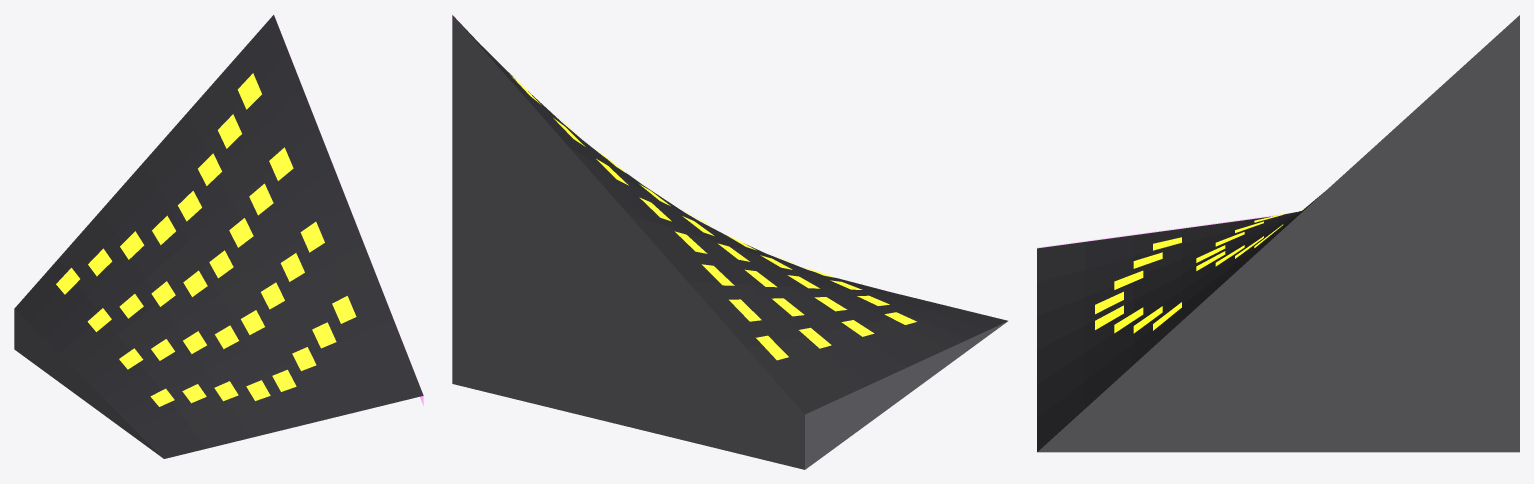
The model's file is barrel_ramp.glb.
3 views of the same model, side by side, from view 1: azimuth 30°, elevation 25°; view 2: azimuth 150°, elevation 25°; view 3: azimuth 270°, elevation 25° (orthographic). The views are drawn at different scales.
Parts seen in each view (by area): view 1: Ramp; view 2: Ramp; view 3: Ramp.
Part boxes in pixels (x1,y1,x2,y2): Ramp: [14, 15, 423, 458]; Ramp: [452, 14, 1007, 469]; Ramp: [1037, 15, 1519, 452].
Bounding box in the file's own units: 1 × 1.04 × 1.
